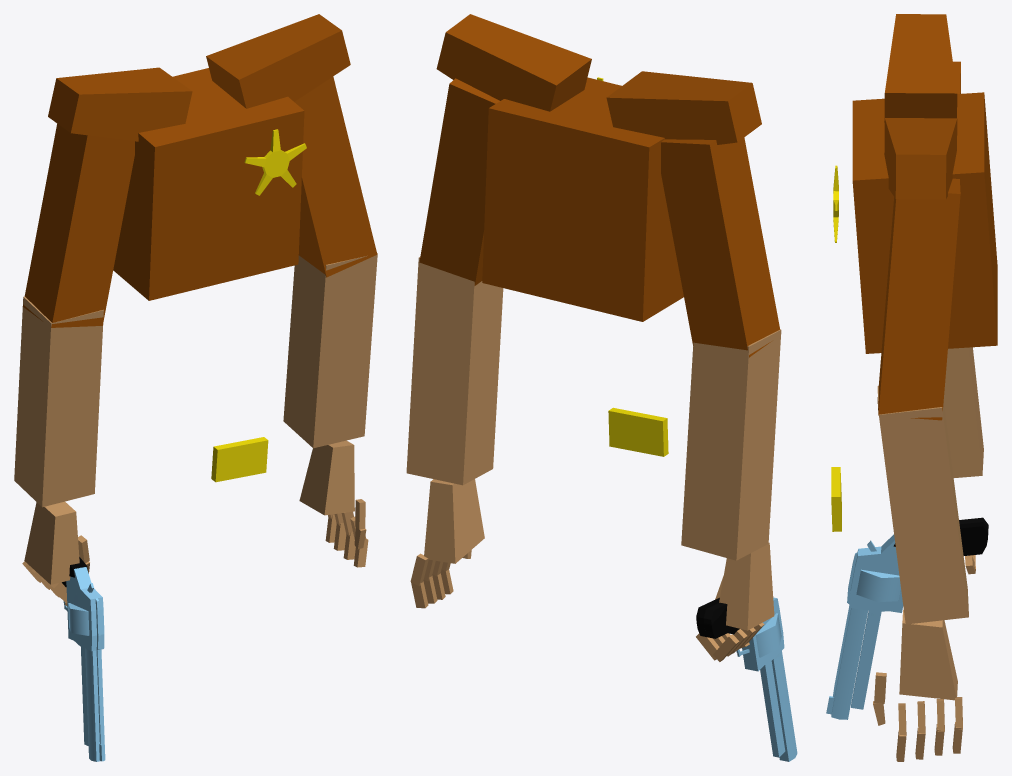
File: PERSONAJE_CUBO_FPS_XXXXXXXXXXXXXXX 1.FBX
3 renders of one model, left to right at view 1: azimuth 30°, elevation 25°; view 2: azimuth 150°, elevation 25°; view 3: azimuth 270°, elevation 25°, orthographic. The views are drawn at different scales.
Parts seen in each view (by area): view 1: spine1, brazo_H, brazo_L, brazo_L001, brazo_H001, hombro001, hombro, PISTOLA_CUBO, Box008, Box019, Box039, Cylinder001; view 2: spine1, brazo_L, brazo_H, brazo_L001, brazo_H001, hombro001, hombro, PISTOLA_CUBO, Box019, Box008, Box039; view 3: spine1, brazo_H001, brazo_L001, PISTOLA_CUBO, hombro, hombro001, brazo_L, Box019, Box039, Cylinder001, Box020.
Part boxes in pixels (bbox=[...]): spine1: bbox=[113, 68, 304, 300]; brazo_H: bbox=[22, 123, 134, 327]; brazo_L: bbox=[14, 296, 103, 507]; brazo_L001: bbox=[283, 253, 377, 448]; brazo_H001: bbox=[294, 76, 377, 277]; hombro001: bbox=[206, 14, 350, 108]; hombro: bbox=[48, 67, 192, 141]; PISTOLA_CUBO: bbox=[62, 557, 105, 761]; Box008: bbox=[24, 501, 79, 584]; Box019: bbox=[299, 440, 354, 515]; Box039: bbox=[211, 437, 268, 482]; Cylinder001: bbox=[244, 129, 306, 195]; spine1: bbox=[482, 77, 683, 321]; brazo_L: bbox=[681, 329, 781, 560]; brazo_H: bbox=[661, 137, 779, 357]; brazo_L001: bbox=[406, 257, 503, 485]; brazo_H001: bbox=[419, 78, 499, 285]; hombro001: bbox=[436, 14, 591, 111]; hombro: bbox=[606, 71, 761, 144]; PISTOLA_CUBO: bbox=[696, 597, 797, 761]; Box019: bbox=[424, 479, 484, 563]; Box008: bbox=[719, 542, 774, 630]; Box039: bbox=[608, 407, 668, 456]; spine1: bbox=[852, 92, 997, 353]; brazo_H001: bbox=[877, 178, 960, 420]; brazo_L001: bbox=[877, 386, 968, 624]; PISTOLA_CUBO: bbox=[826, 517, 988, 719]; hombro: bbox=[884, 14, 957, 122]; hombro001: bbox=[884, 118, 957, 199]; brazo_L: bbox=[943, 347, 983, 477]; Box019: bbox=[899, 610, 957, 700]; Box039: bbox=[831, 467, 841, 531]; Cylinder001: bbox=[833, 165, 838, 242]; Box020: bbox=[874, 672, 886, 703].
Bounding box in the file's own units: 15.15 × 29.39 × 6.45.
